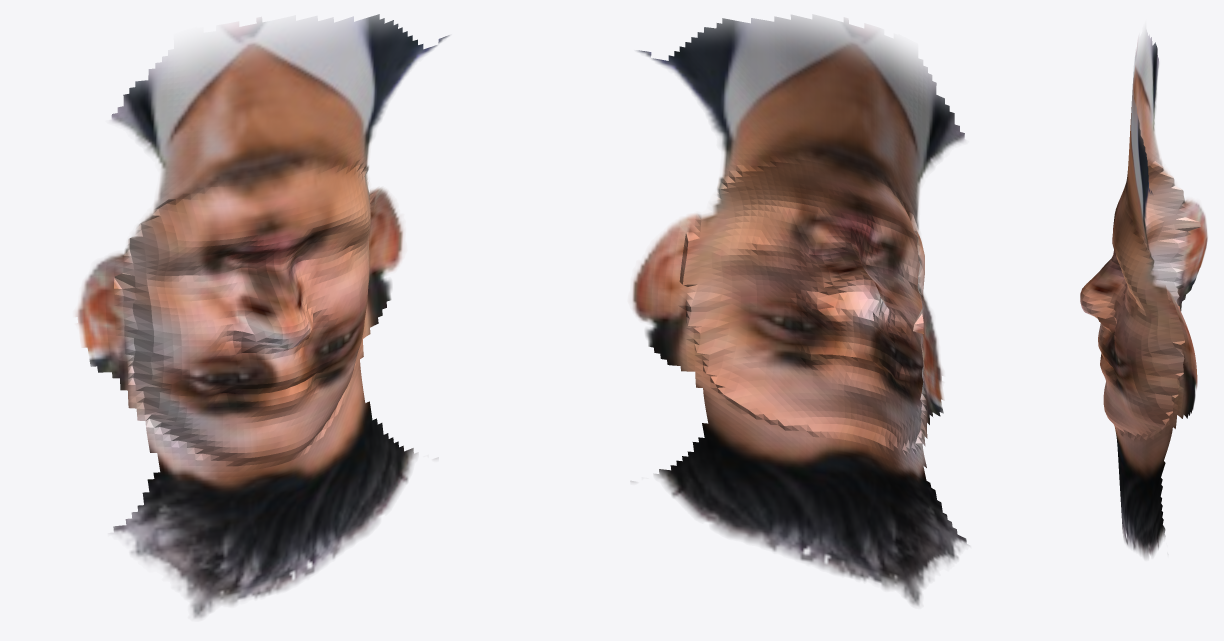
Rendered from facial-surface.glb.
3 renders of one model, left to right at view 1: azimuth 30°, elevation 25°; view 2: azimuth 150°, elevation 25°; view 3: azimuth 270°, elevation 25°, orthographic. The views are drawn at different scales.
Size of the model in its own units: 2.66 by 3 by 0.6969.
Materials: 1 (1 with a texture image).
